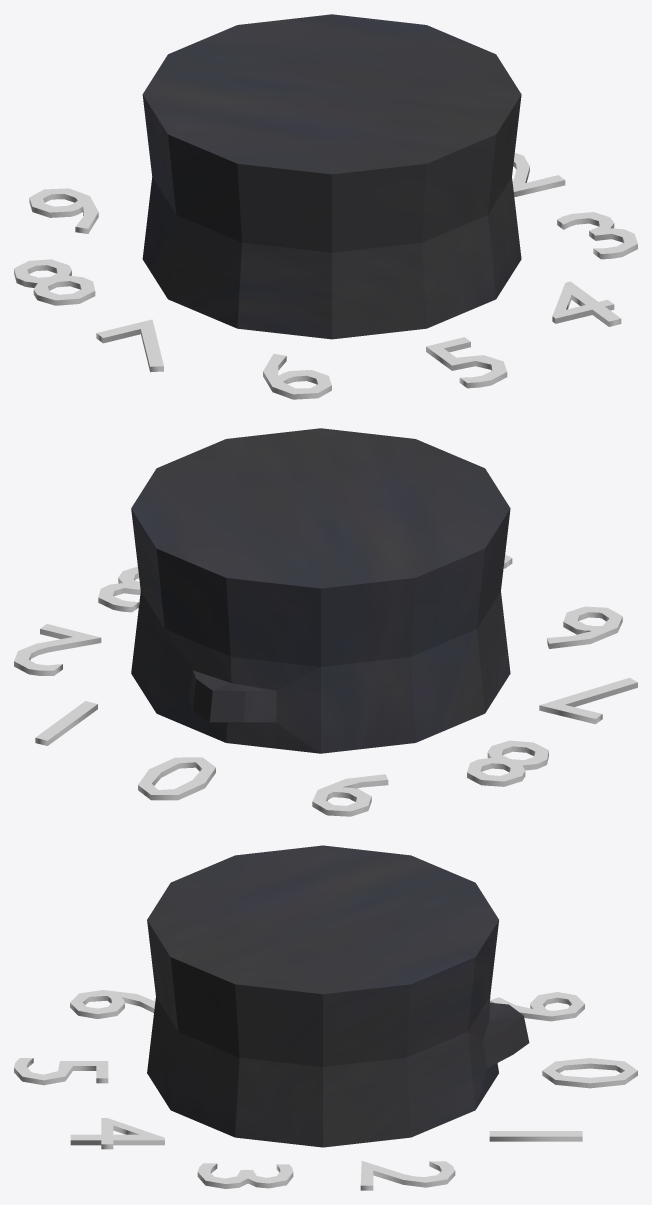
The model's file is MESH_RotateButton.fbx.
The picture shows the model from 3 angles, top to bottom: view 1: azimuth 30°, elevation 25°; view 2: azimuth 150°, elevation 25°; view 3: azimuth 270°, elevation 25°; orthographic projection. The views are drawn at different scales.
Visible parts, largest first — view 1: Circle.010, 8, 5, 9, 6, 3, 4, 7, 2; view 2: Circle.010, 8, 0, 2, 9, 6, 7, 3, 1; view 3: Circle.010, 0, 4, 6, 2, 3, 5, 9, 1.
Part boxes in pixels (box(x1,y1,x2,y2)): Circle.010: box(142, 14, 521, 339); 8: box(14, 259, 95, 305); 5: box(426, 337, 507, 388); 9: box(29, 188, 98, 233); 6: box(263, 353, 331, 399); 3: box(557, 212, 637, 259); 4: box(552, 281, 621, 326); 7: box(96, 319, 163, 372); 2: box(512, 153, 565, 197); Circle.010: box(131, 428, 510, 753); 8: box(467, 740, 548, 786); 0: box(138, 757, 215, 800); 2: box(14, 624, 101, 675); 9: box(312, 774, 388, 816); 6: box(547, 606, 622, 648); 7: box(539, 677, 637, 724); 3: box(98, 566, 140, 612); 1: box(35, 701, 97, 745); Circle.010: box(147, 845, 529, 1147); 0: box(542, 1058, 637, 1088); 4: box(70, 1118, 164, 1149); 6: box(70, 990, 155, 1018); 2: box(360, 1161, 455, 1190); 3: box(197, 1163, 293, 1188); 5: box(14, 1058, 108, 1085); 9: box(490, 992, 584, 1021); 1: box(489, 1131, 582, 1141).
Size of the model in its own units: 9.57 by 2.98 by 10.84.
